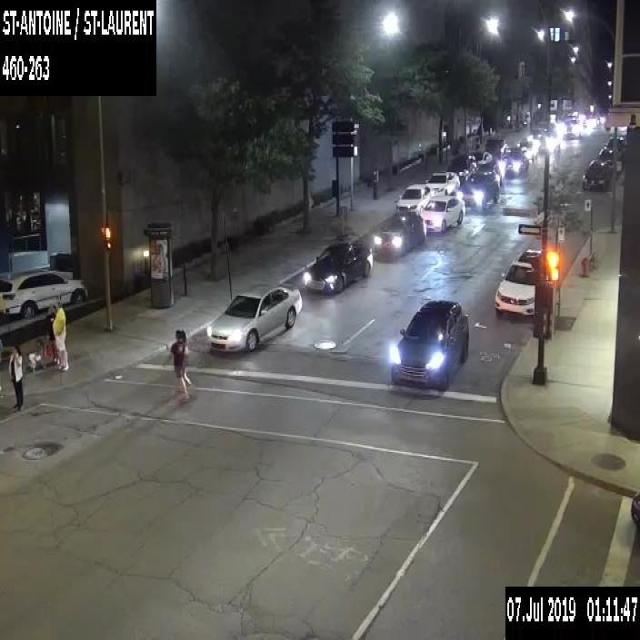pedestrian: (164, 328, 188, 400), (51, 298, 69, 370), (8, 345, 23, 409), (180, 328, 192, 384)
vehicle: (390, 297, 470, 388), (206, 282, 302, 350), (0, 266, 87, 318), (492, 247, 542, 325), (304, 239, 372, 291), (373, 210, 424, 258), (456, 169, 499, 211), (419, 194, 465, 232), (395, 180, 435, 213), (581, 157, 616, 189), (446, 153, 476, 183), (425, 170, 459, 194), (500, 146, 528, 175), (596, 146, 622, 172), (477, 160, 501, 183), (518, 136, 538, 162), (603, 135, 626, 156), (536, 132, 559, 151), (485, 137, 508, 156), (470, 149, 492, 166), (562, 118, 580, 136)
